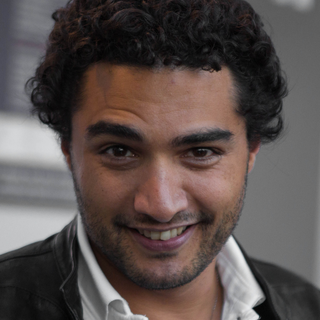eye: (92, 140, 143, 163), (176, 145, 226, 164)
